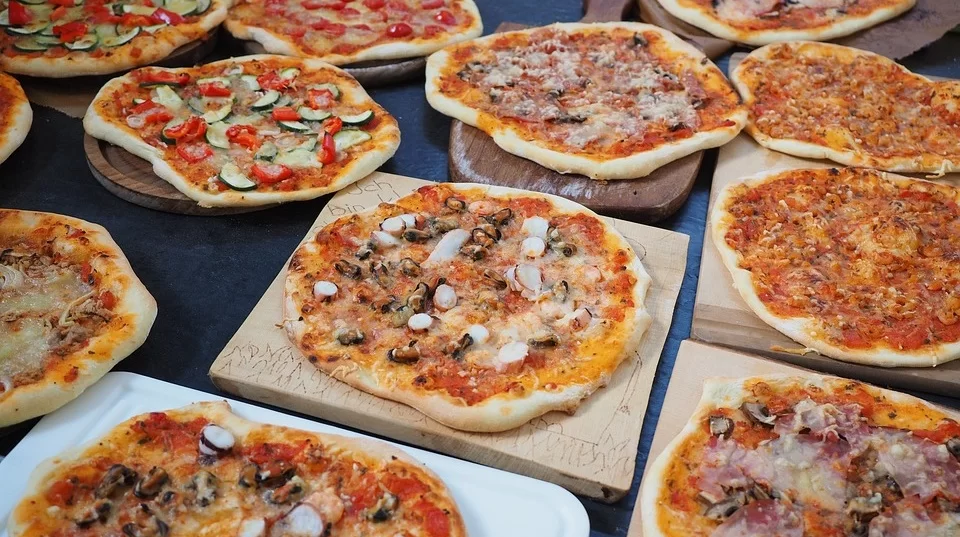Pizza: (279, 181, 656, 434), (9, 398, 468, 537), (423, 19, 749, 182), (640, 372, 960, 537), (709, 162, 960, 369), (81, 51, 402, 209), (1, 208, 159, 430), (729, 34, 960, 176), (1, 1, 233, 77), (223, 1, 483, 67), (652, 1, 918, 49), (1, 70, 33, 167)
